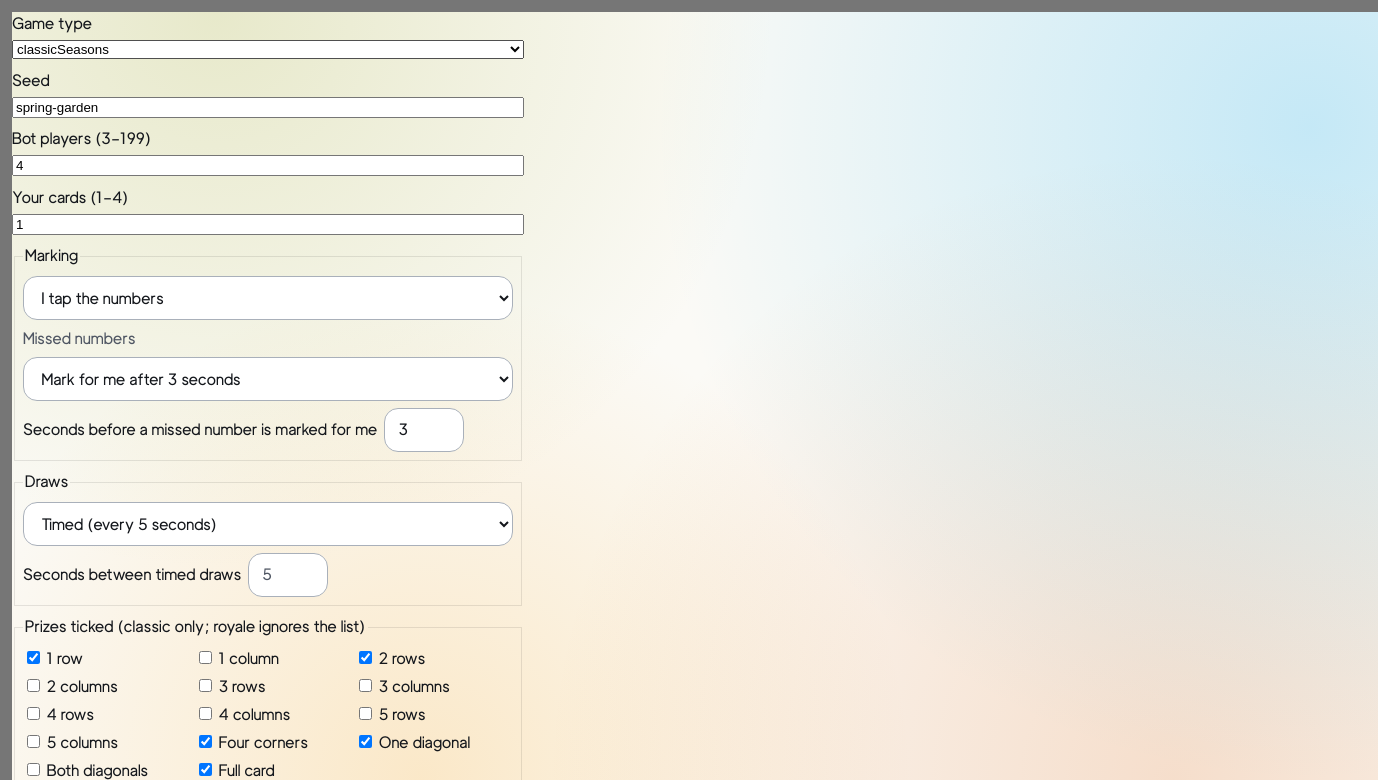
it: start form labels › names the chosen seconds and hides missed numbers when marking for the owner
Replace the text in the number field with test id "missed-delay" with "5" at (424, 430), box top-left (384, 408), bottom-right (464, 452)
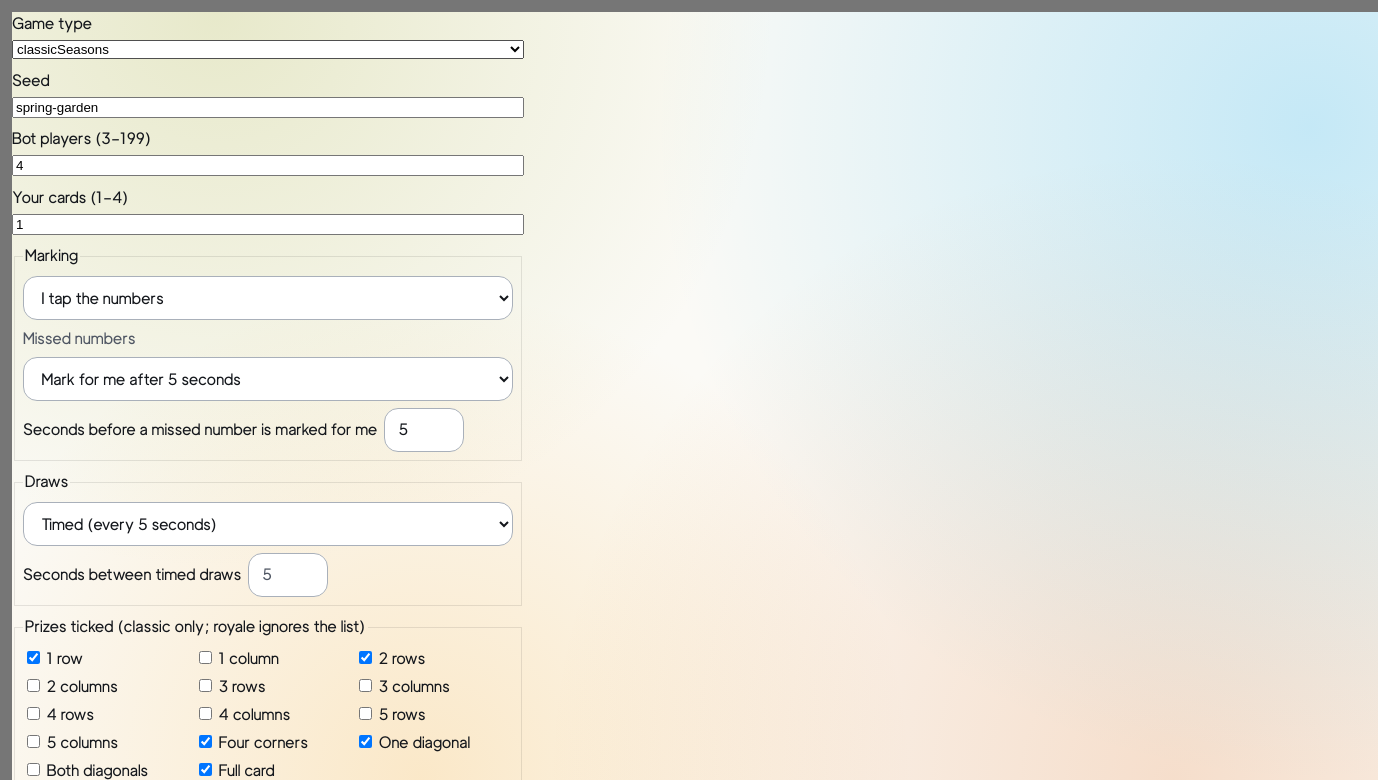
Type "8" into the number field with test id "start-draw-interval" at (288, 574), box top-left (248, 552), bottom-right (328, 596)
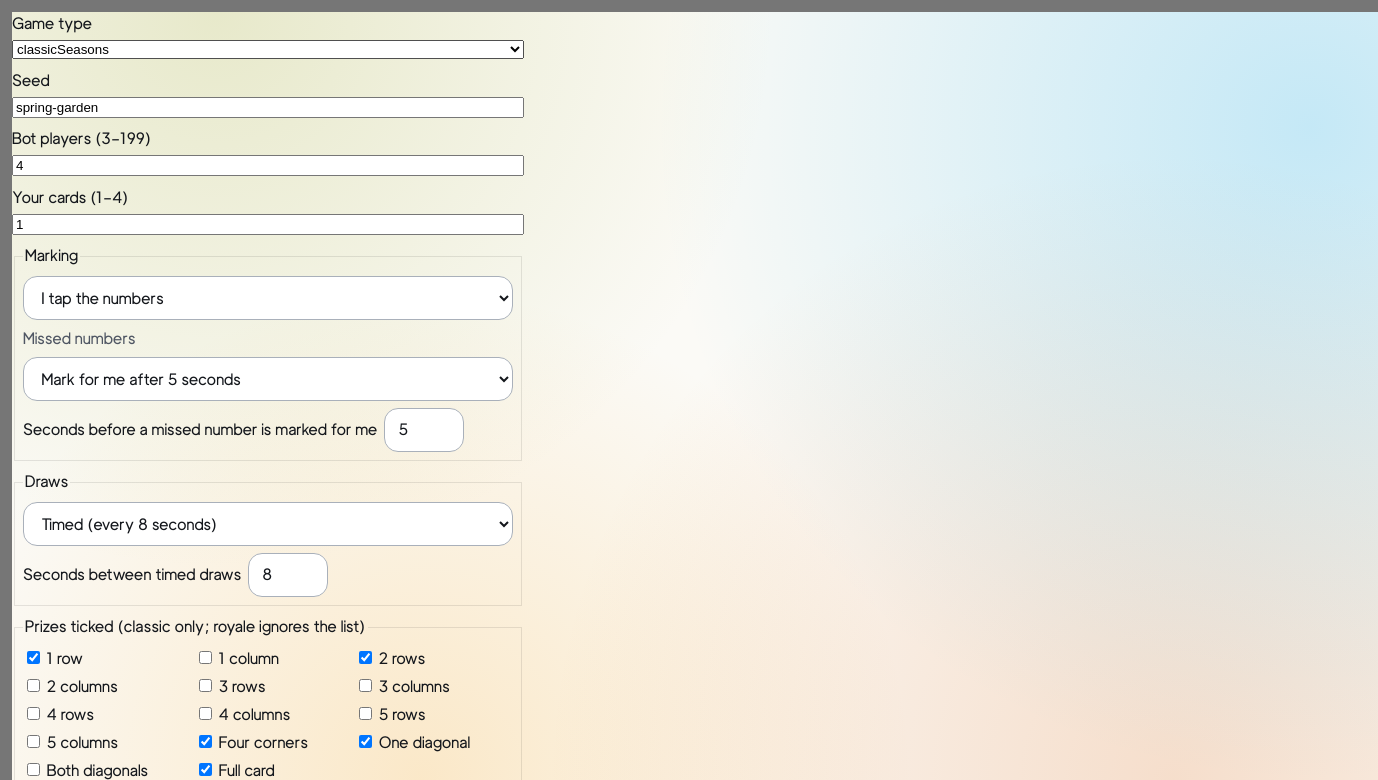
Select "Mark for me" in the dropdown with test id "marking-mode" at (268, 298), box top-left (23, 276), bottom-right (513, 320)
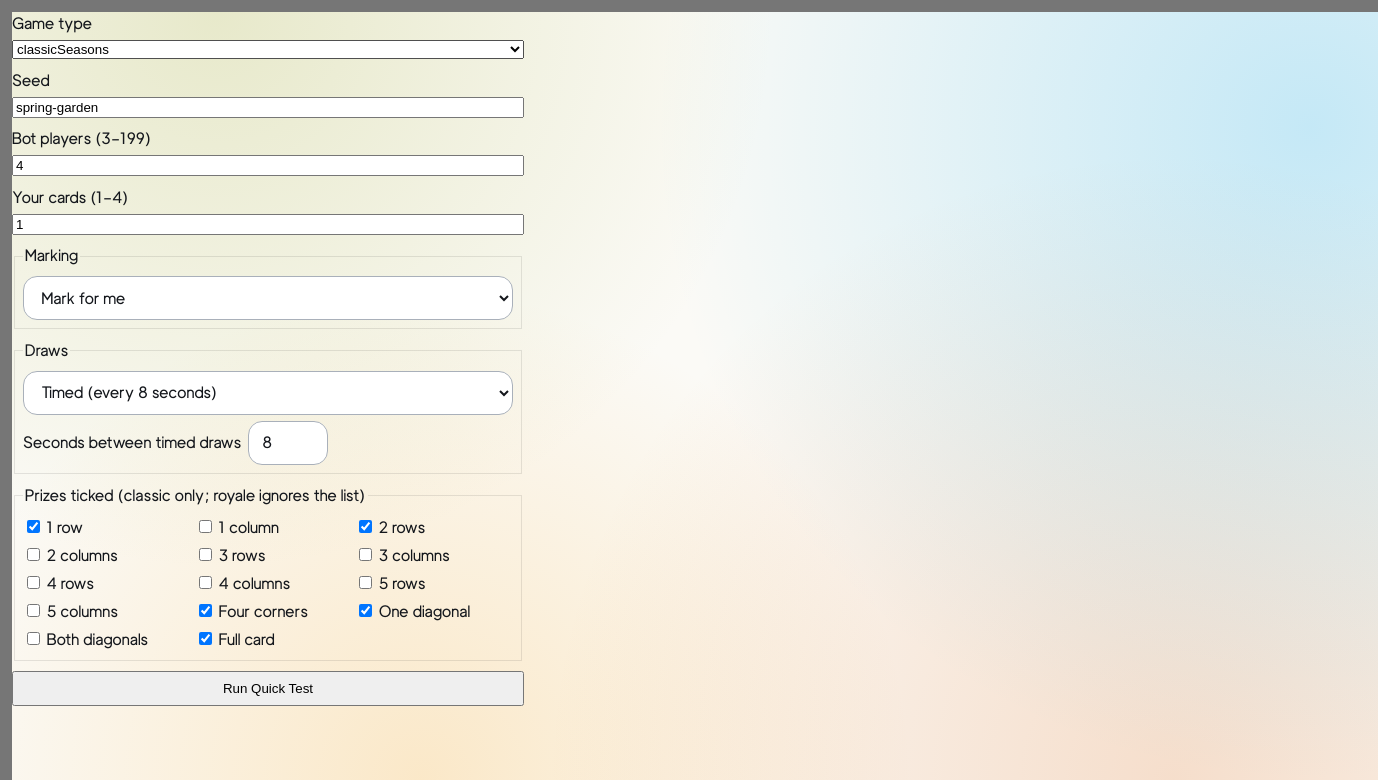
Check: the dropdown with test id "missed-numbers" is gone
